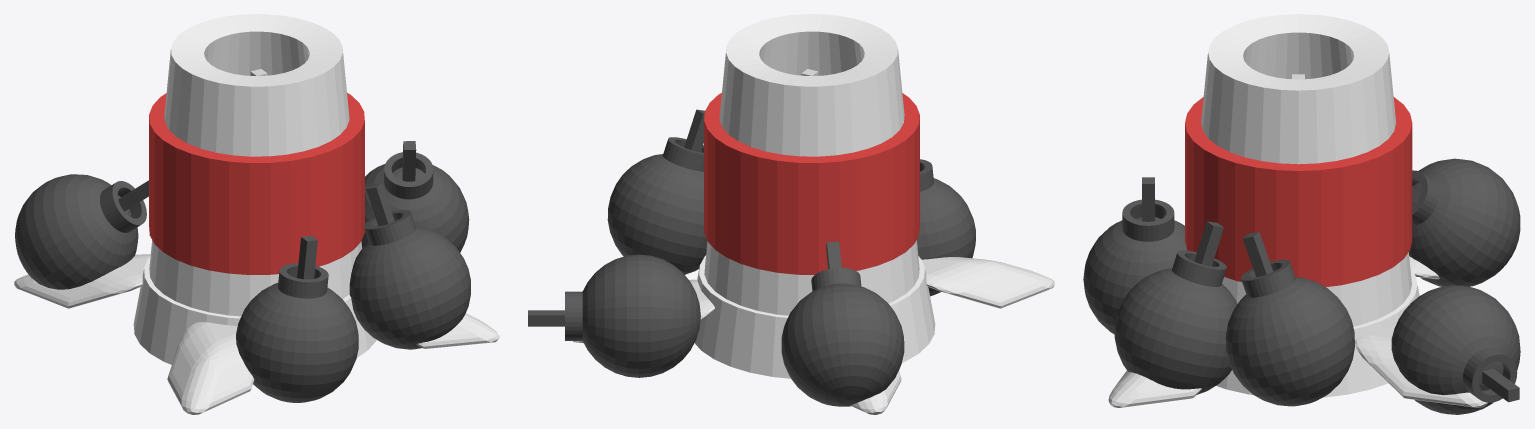
File: mortar.glb
3 renders of one model, left to right at view 1: azimuth 30°, elevation 25°; view 2: azimuth 150°, elevation 25°; view 3: azimuth 270°, elevation 25°, orthographic. The views are drawn at different scales.
Visible parts, largest first — view 1: Cylinder, Cylinder.002, Bomb2, Bomb5, Bomb1, Bomb3, Circle.003, Cylinder.001, Circle.001, Circle.002; view 2: Cylinder, Cylinder.002, Bomb4, Bomb1, Bomb3, Cylinder.001, Circle.003, Bomb5, Circle.001; view 3: Cylinder, Cylinder.002, Bomb3, Bomb2, Bomb4, Bomb1, Bomb5, Circle, Cylinder.001, Circle.002.
Boxes of the visible parts, x1,y1,x2,y2 form: Cylinder: [149, 14, 362, 316]; Cylinder.002: [149, 93, 364, 274]; Bomb2: [349, 183, 470, 349]; Bomb5: [236, 235, 358, 402]; Bomb1: [15, 174, 148, 289]; Bomb3: [361, 141, 469, 252]; Circle.003: [167, 322, 254, 414]; Cylinder.001: [133, 256, 376, 364]; Circle.001: [14, 254, 150, 308]; Circle.002: [416, 313, 499, 348]; Cylinder: [704, 14, 919, 315]; Cylinder.002: [704, 93, 919, 274]; Bomb4: [528, 254, 700, 377]; Bomb1: [781, 241, 904, 406]; Bomb3: [607, 109, 707, 274]; Cylinder.001: [694, 255, 935, 378]; Circle.003: [921, 257, 1054, 308]; Bomb5: [917, 159, 975, 296]; Circle.001: [851, 371, 901, 414]; Cylinder: [1201, 14, 1411, 326]; Cylinder.002: [1185, 97, 1412, 287]; Bomb3: [1225, 232, 1354, 406]; Bomb2: [1114, 221, 1237, 394]; Bomb4: [1391, 285, 1520, 414]; Bomb1: [1409, 158, 1520, 286]; Bomb5: [1083, 177, 1186, 334]; Circle: [1355, 321, 1487, 407]; Cylinder.001: [1216, 268, 1419, 397]; Circle.002: [1108, 370, 1201, 407].
Bounding box in the file's own units: 6.71 × 5.2 × 6.73.
